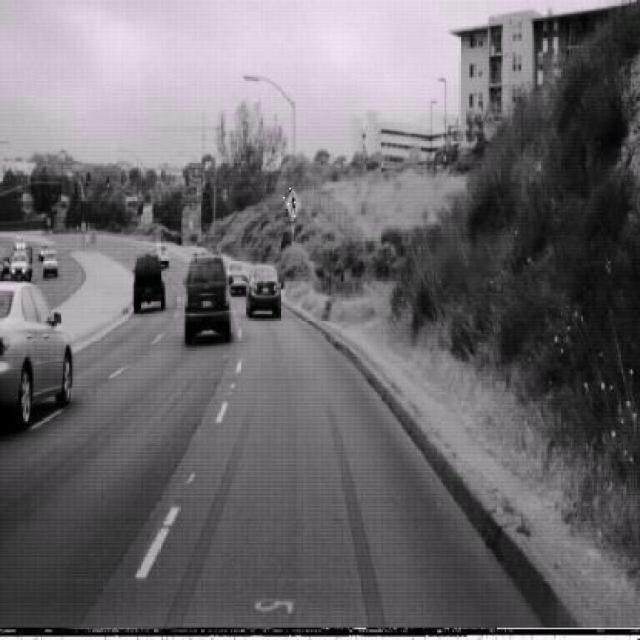pedestrianCrossing: (283, 184, 302, 220)
